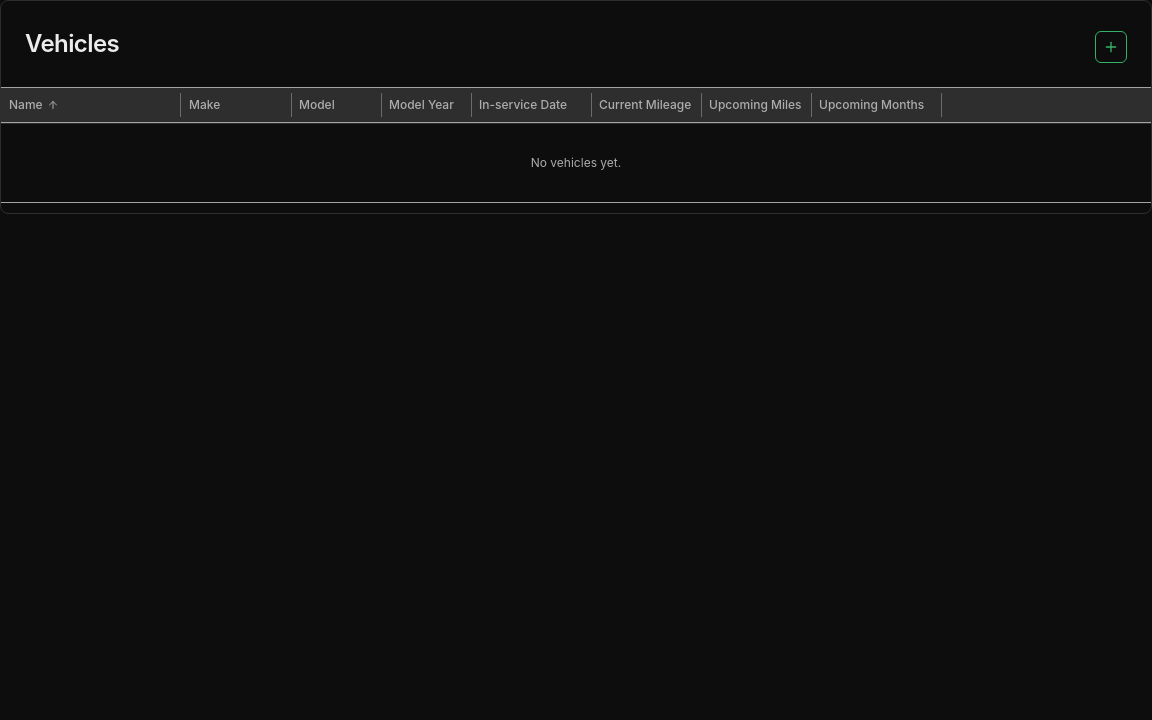
Scenario: GarageConfigView vehicles grid › requires model year when adding a vehicle
Later steps or results of the test are not shown.
Click the button named "Add Vehicle": coordinates (1111, 47) [1095,31,1127,63]
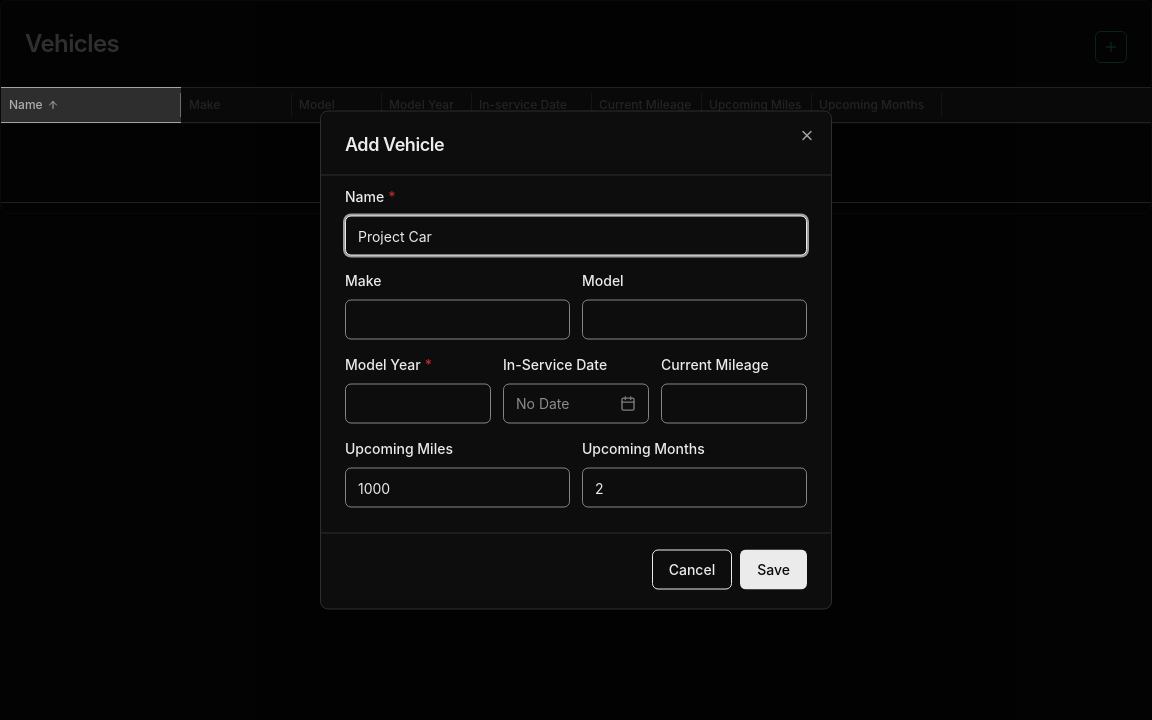
Check: the field with id "garage-vehicle-name" is shown, box [345,216,807,256]
Check: the number field with id "garage-vehicle-upcoming-miles" holds "1000", box [345,468,570,508]
Check: the number field with id "garage-vehicle-upcoming-months" holds "2", box [582,468,807,508]
